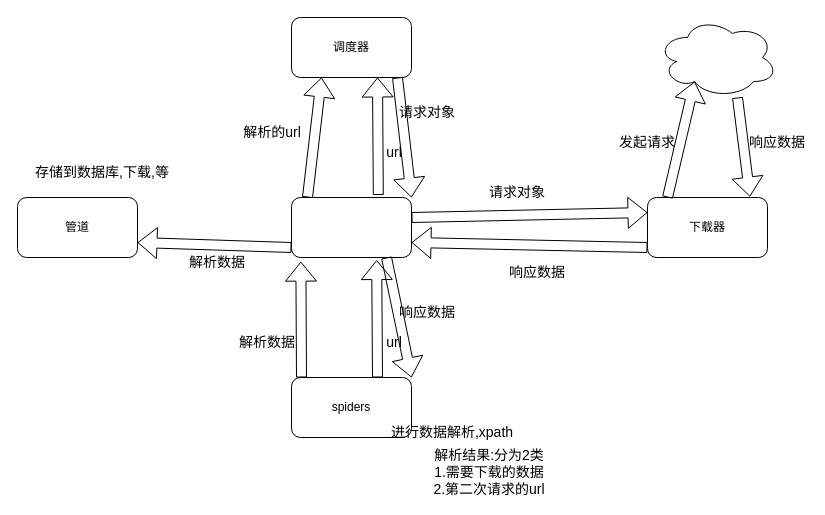
The diagram is 825 pixels wide and 515 high, and some of its shapes have lost their labels. The centre of each missing label's shape, as x and y in pixels:
"互联网" goes at (x=717, y=57).
"引擎" goes at (x=351, y=227).
